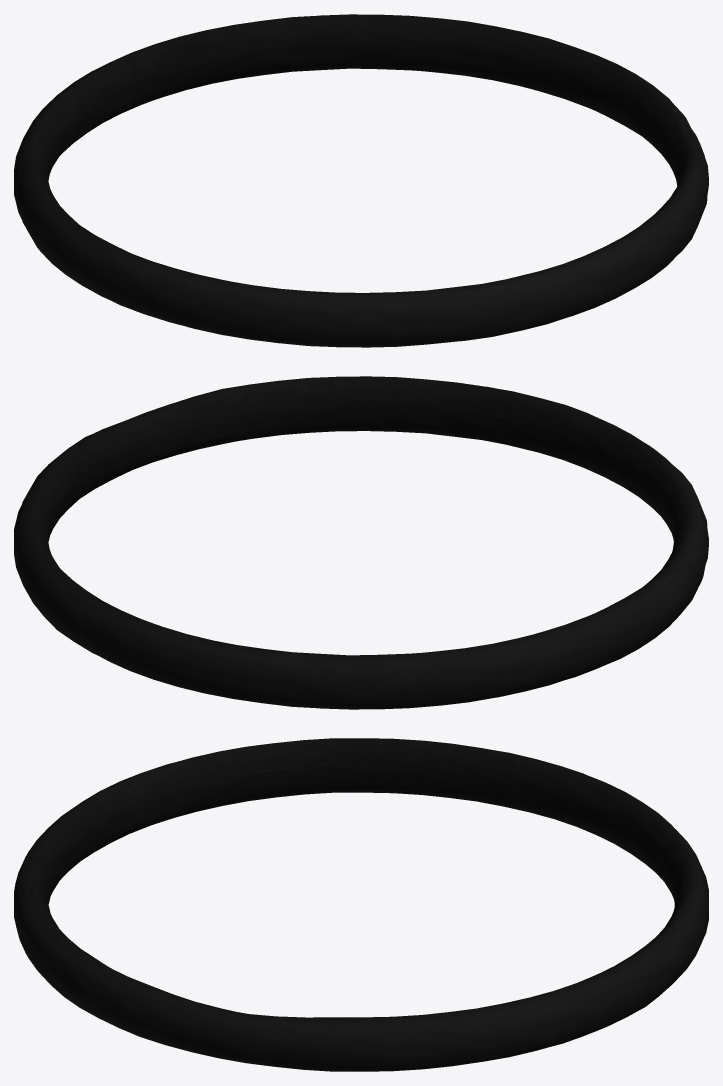
File: black_generic_hair_tie.glb
The picture shows the model from 3 angles, top to bottom: view 1: azimuth 30°, elevation 25°; view 2: azimuth 150°, elevation 25°; view 3: azimuth 270°, elevation 25°; orthographic projection.
Parts seen in each view (by area): view 1: Object_5; view 2: Object_5; view 3: Object_5.
Boxes of the visible parts, <box> form: Object_5: <box>14,14,708,347</box>; Object_5: <box>14,376,708,709</box>; Object_5: <box>14,738,708,1071</box>.
Bounding box in the file's own units: 1.91 × 0.1604 × 1.9.
1 material, 1 textured.
